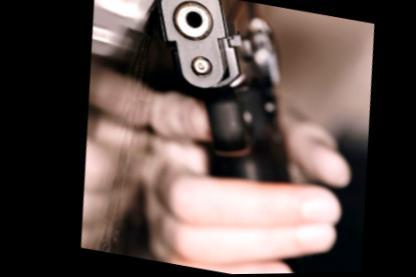pistol: (117, 0, 326, 238)
